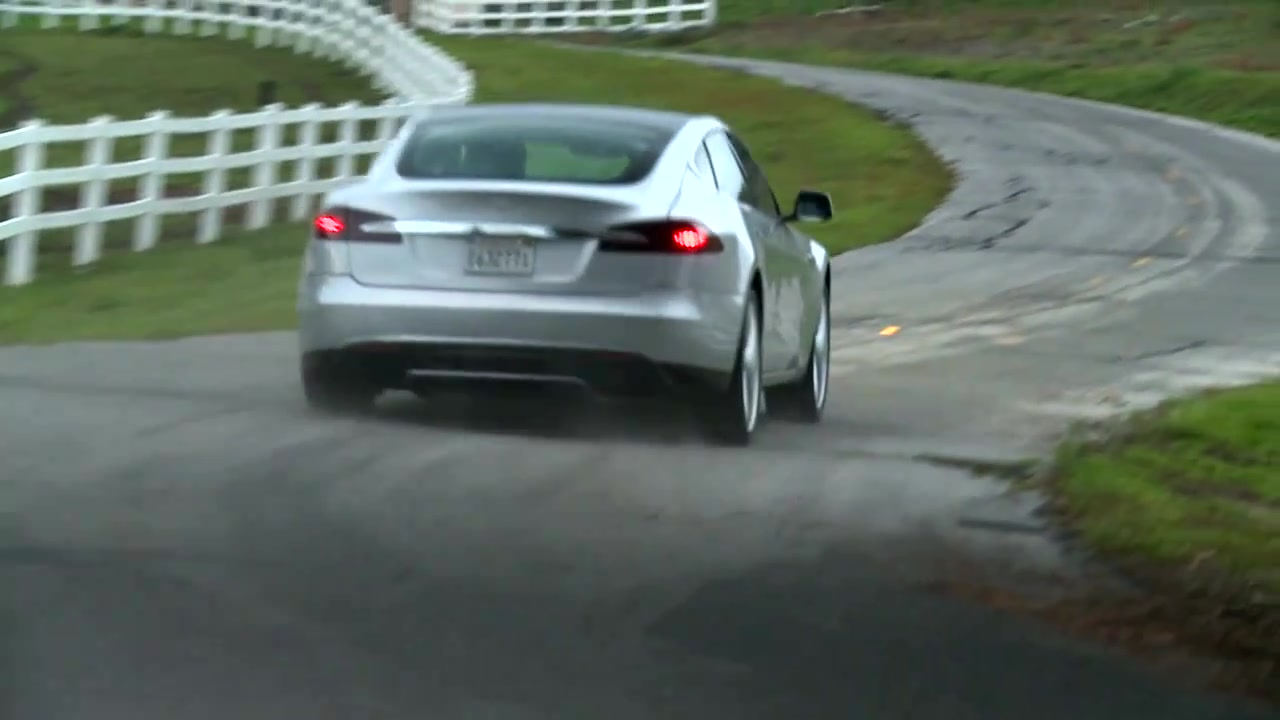car: (295, 100, 843, 448)
